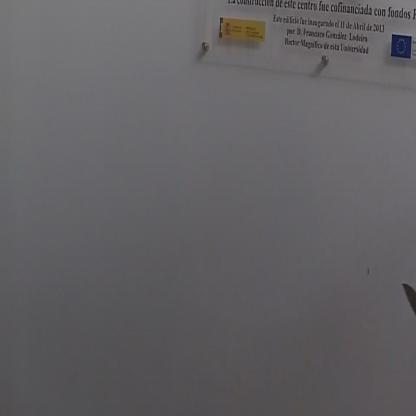knife: (400, 277, 416, 392)
